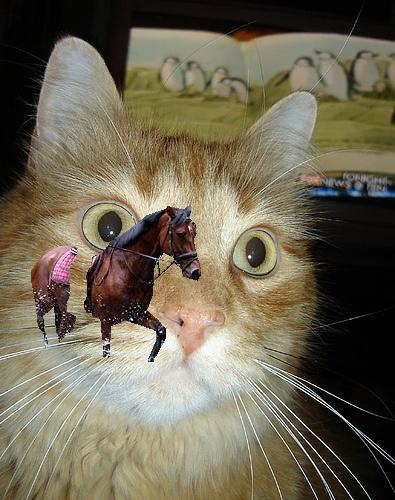tampered: (32, 205, 201, 362)
